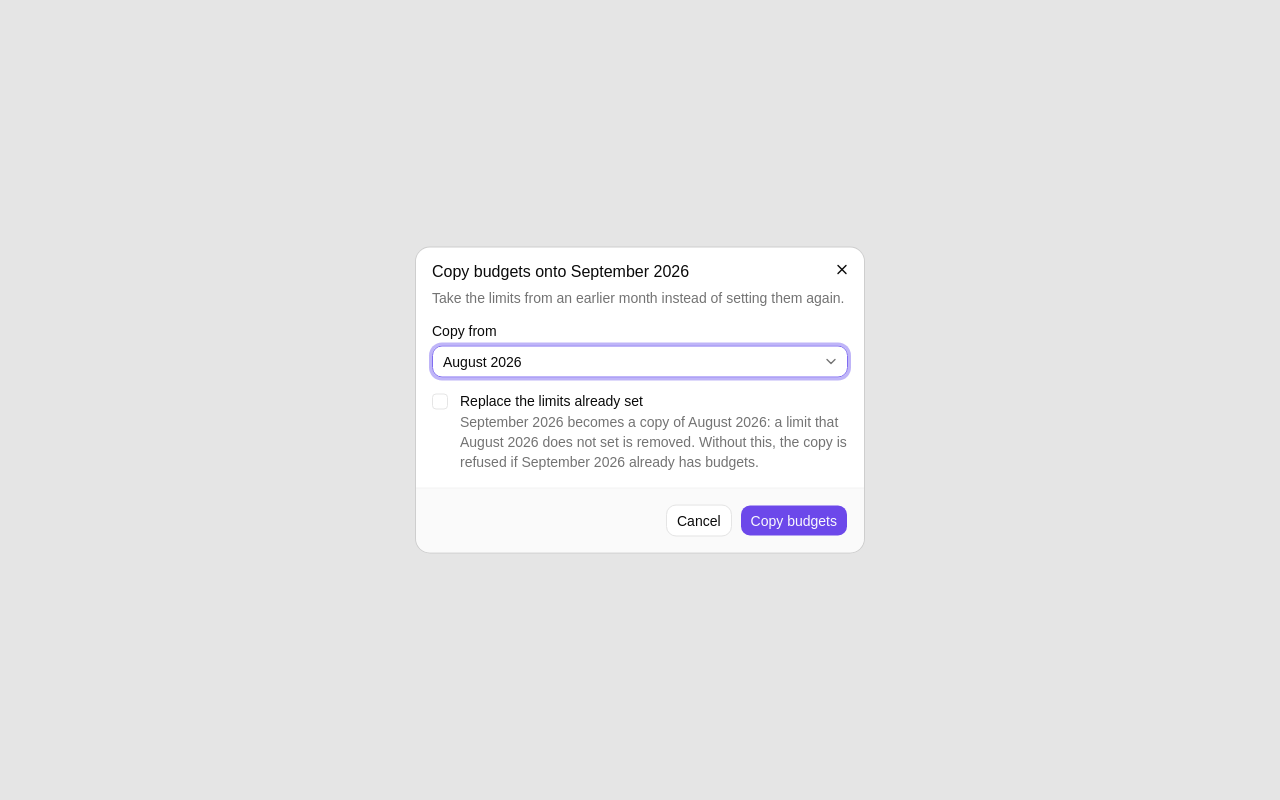
Test case: replacing the limits already set › names an archived category the replace leaves unbudgeted
Click the checkbox named "Replace the limits already set". click: [440, 402]
box: [432,394,448,410]
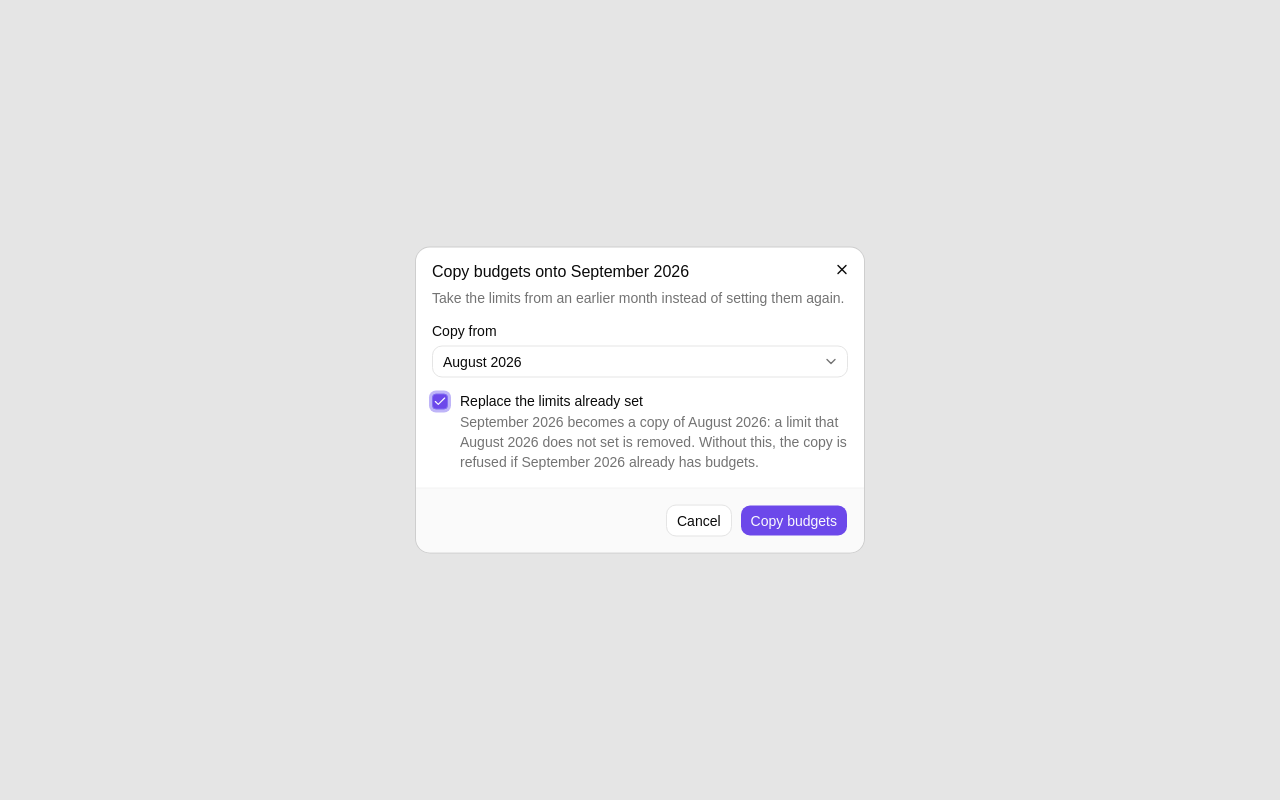
Click the button "Copy budgets". click: [794, 520]
box: [740,504,848,536]
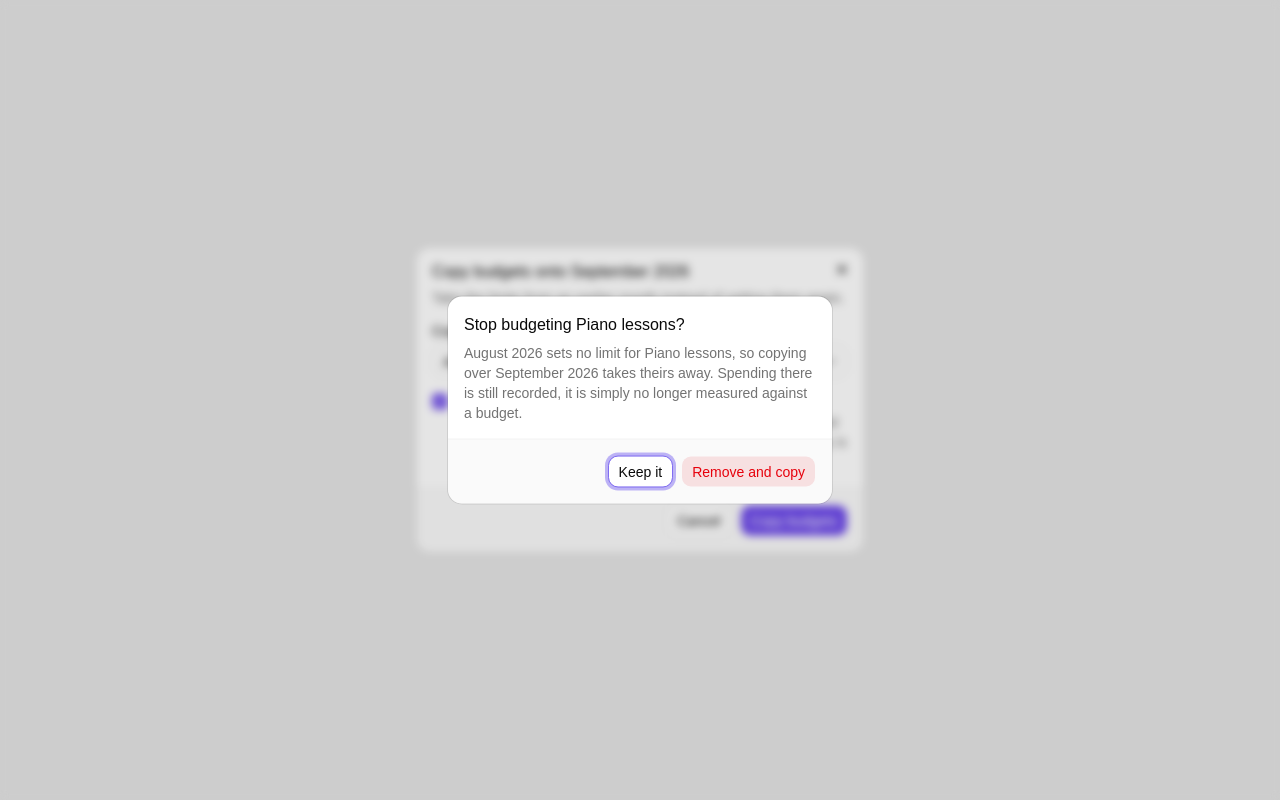
Expected: the heading "Stop budgeting Piano lessons?" is shown, [464,312,685,336]
